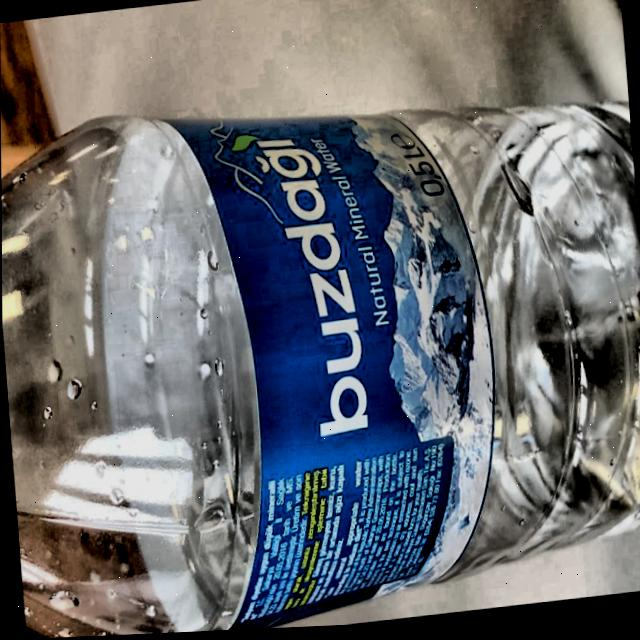plastic: (0, 50, 640, 640)
